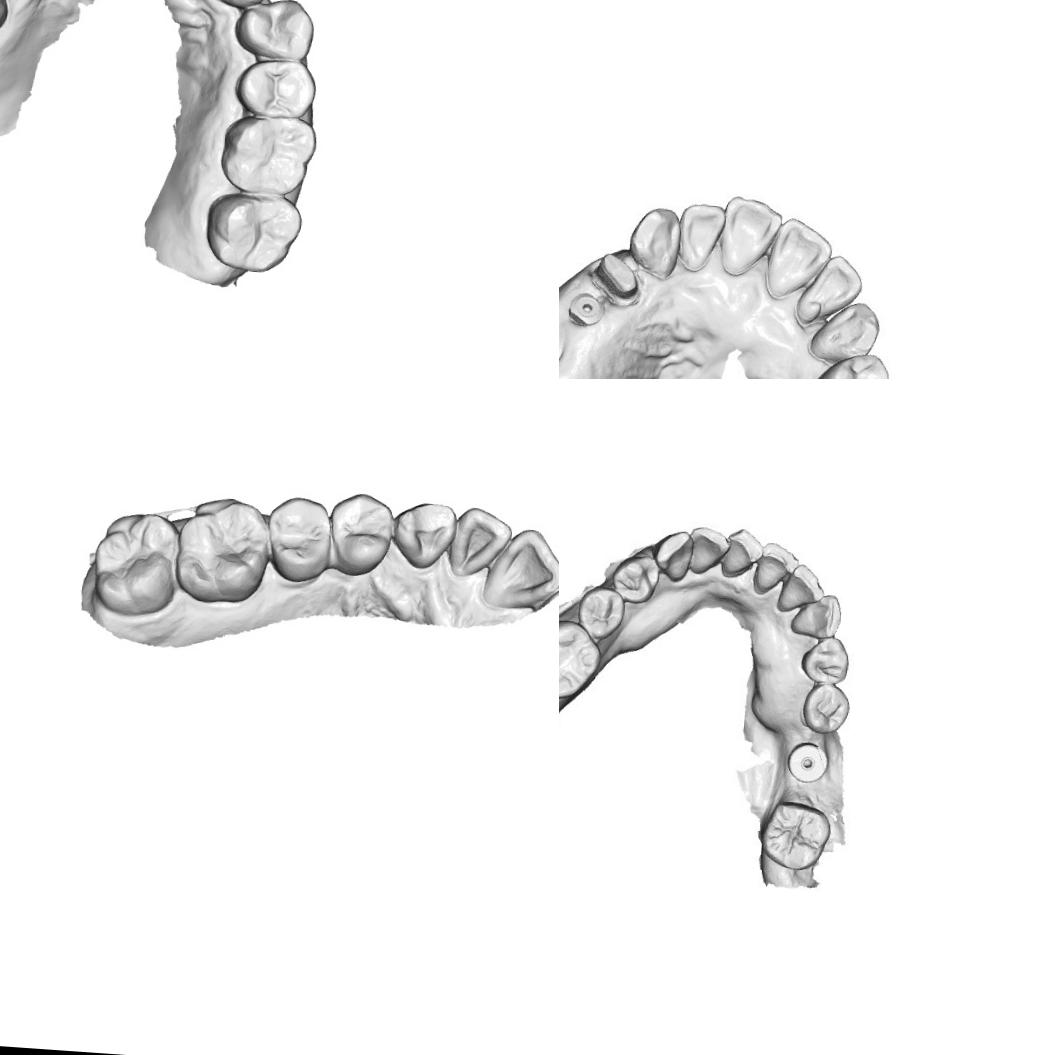canine: (389, 498, 458, 572), (807, 299, 882, 363), (626, 204, 682, 284), (788, 594, 842, 643), (652, 527, 695, 585)
crown: (593, 250, 640, 296)
implant: (784, 737, 827, 785), (568, 290, 602, 327)
incisor: (477, 522, 559, 613), (790, 250, 864, 329), (721, 188, 782, 276), (446, 502, 514, 580), (766, 217, 827, 295), (675, 201, 725, 277), (754, 534, 795, 592), (688, 523, 728, 573), (776, 564, 818, 610), (720, 524, 756, 577)
molar: (171, 493, 276, 609), (88, 506, 182, 620), (201, 188, 306, 276), (216, 109, 318, 198), (762, 800, 830, 869), (559, 613, 605, 703)
premolar: (262, 490, 336, 587), (326, 488, 392, 581), (232, 54, 317, 121), (232, 0, 318, 62), (578, 584, 624, 638), (801, 637, 851, 686), (806, 680, 848, 732), (814, 354, 895, 379), (613, 555, 657, 598)
